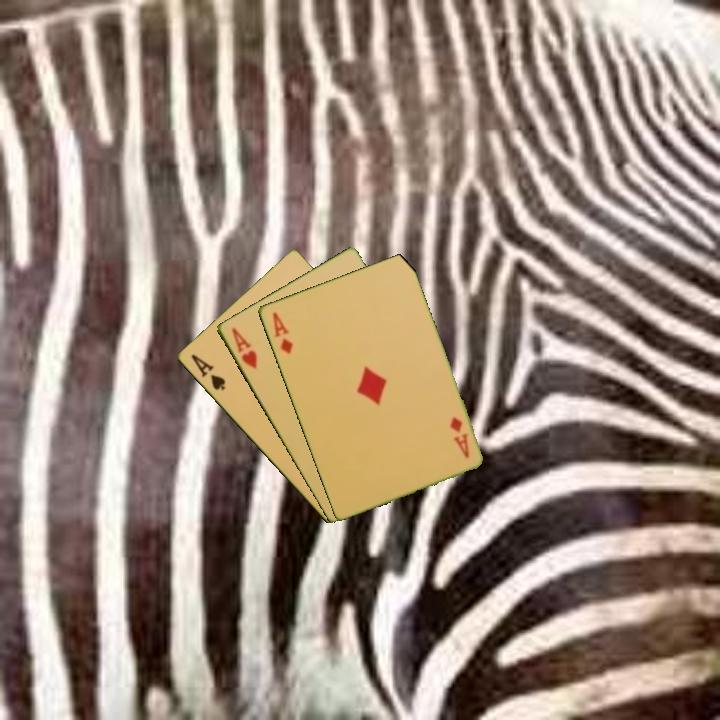Ad: (446, 413, 472, 462), (269, 309, 296, 356)
Ah: (228, 324, 260, 372)
As: (187, 350, 228, 394)
